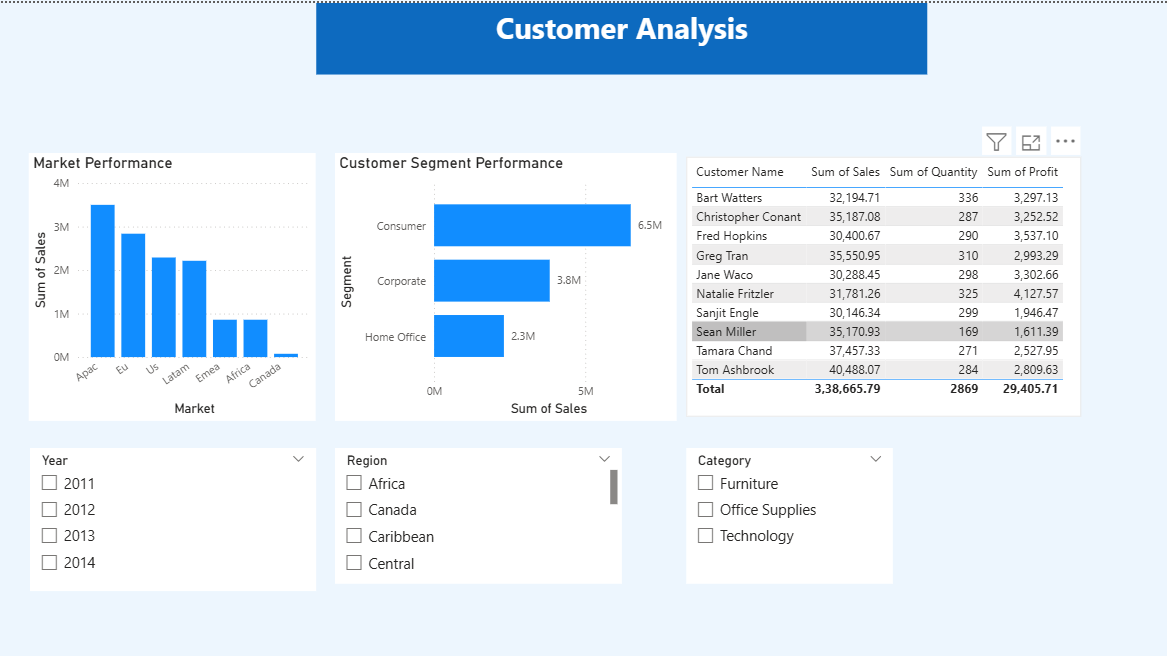

This screenshot's page, from the dashboard's own definition file:
{"tool":"powerbi","page":{"name":"Customer Analysis","canvas":[1280,720],"ordinal":3},"visuals":[{"type":"tableEx","fields":{"Values":["cleaned_superstore.Customer Name","Sum(cleaned_superstore.Sales)","Sum(cleaned_superstore.Quantity)","Sum(cleaned_superstore.Profit)"]},"box":[752.2,168.9,432.2,284.4],"z":0},{"type":"barChart","title":"Customer Segment Performance","fields":{"Category":["cleaned_superstore.Segment"],"Y":["Sum(cleaned_superstore.Sales)"]},"box":[367.8,164.4,374.4,293.3],"z":1000},{"type":"textbox","box":[346.4,0,669.9,78.4],"z":2000},{"type":"columnChart","title":"Market Performance","fields":{"Category":["cleaned_superstore.Market"],"Y":["Sum(cleaned_superstore.Sales)"]},"box":[31.6,164.7,314.2,293.7],"z":2001},{"type":"slicer","fields":{"Values":["cleaned_superstore.Region"]},"box":[366.7,487.8,314.4,148.9],"z":2002},{"type":"slicer","fields":{"Values":["cleaned_superstore.Category"]},"box":[752.2,487.8,226.7,148.9],"z":2003},{"type":"slicer","fields":{"Values":["cleaned_superstore.Order Date.Variation.Date Hierarchy.Year"]},"box":[32.2,487.8,313.3,156.7],"z":2004}]}

Visuals, with their boxes in screenshot pixels (x1, y1, x2, y2), scaled from the page's 1280x720 canvas onto the 1167x656 screenshot:
tableEx - cleaned_superstore.Customer Name x Sum(cleaned_superstore.Sales): select_region(686, 154, 1080, 413)
"Customer Segment Performance" barChart: select_region(335, 150, 677, 417)
textbox: select_region(316, 0, 927, 71)
"Market Performance" columnChart: select_region(29, 150, 315, 418)
slicer - cleaned_superstore.Region: select_region(334, 444, 621, 580)
slicer - cleaned_superstore.Category: select_region(686, 444, 892, 580)
slicer - cleaned_superstore.Order Date.Variation.Date Hierarchy.Year: select_region(29, 444, 315, 587)
